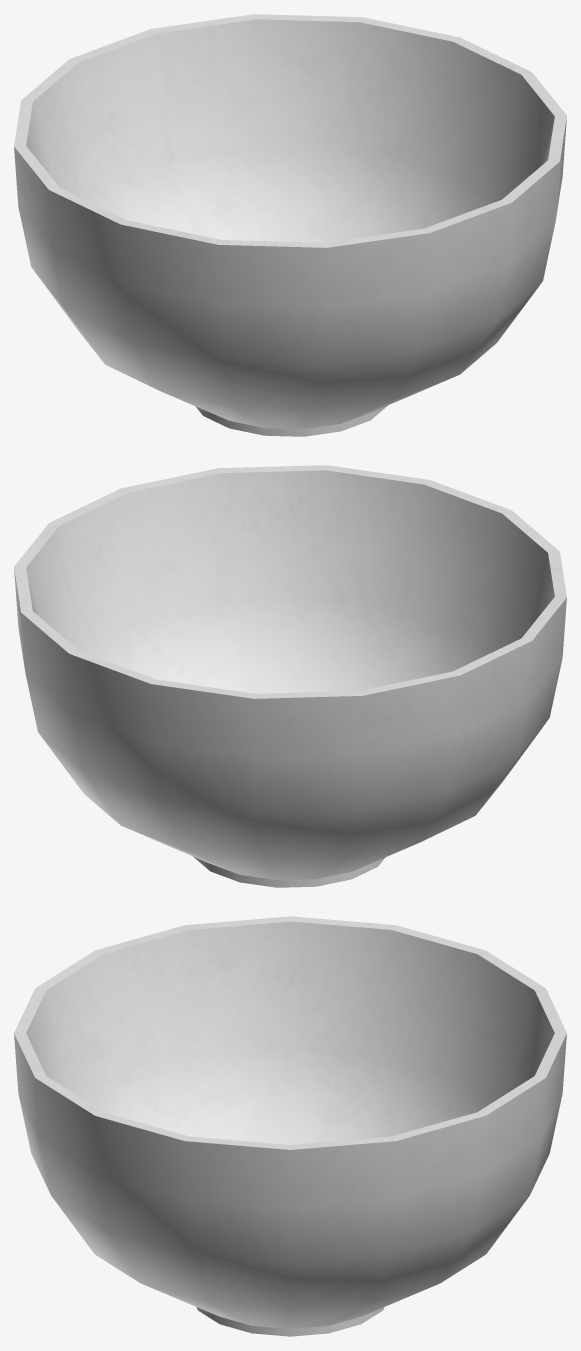
Rendered from BowlMedium.fbx.
The picture shows the model from 3 angles, top to bottom: view 1: azimuth 30°, elevation 25°; view 2: azimuth 150°, elevation 25°; view 3: azimuth 270°, elevation 25°; orthographic projection.
Visible parts, largest first — view 1: BowlMedium.001; view 2: BowlMedium.001; view 3: BowlMedium.001.
Part boxes in pixels (x1=…): BowlMedium.001: x1=14, y1=14, x2=566, y2=436; BowlMedium.001: x1=14, y1=465, x2=566, y2=887; BowlMedium.001: x1=14, y1=916, x2=566, y2=1336.
Bounding box in the file's own units: 0.3399 × 0.3399 × 0.1772.
